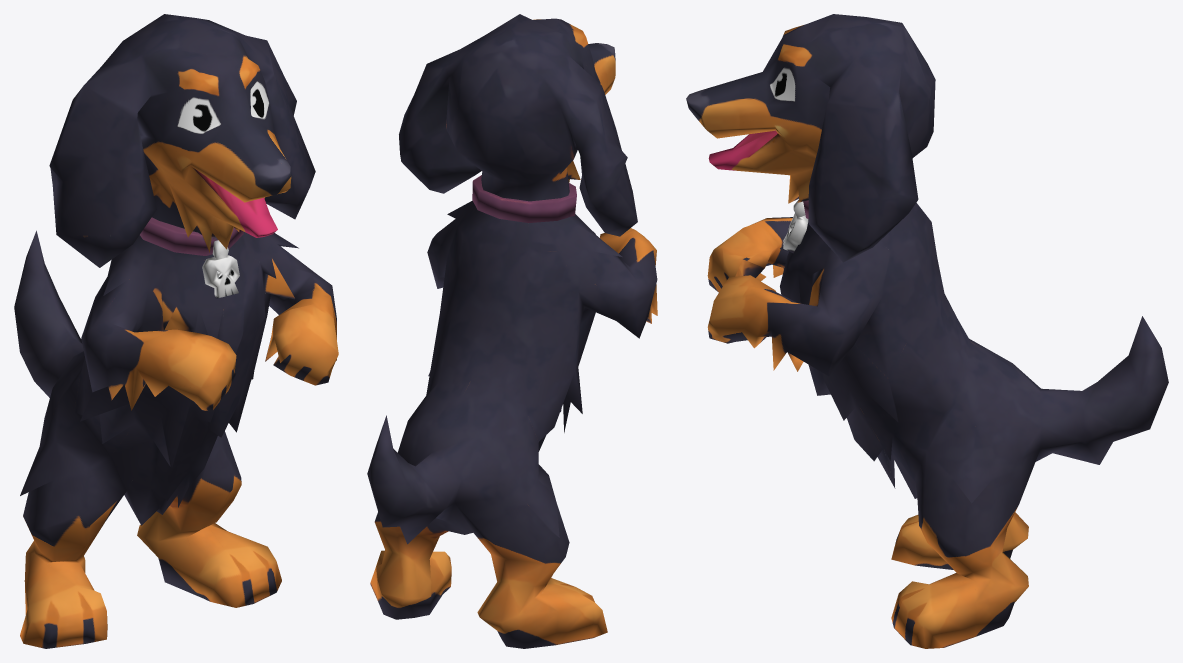
File: bobby-model.glb
The picture shows the model from 3 angles, left to right: view 1: azimuth 30°, elevation 25°; view 2: azimuth 150°, elevation 25°; view 3: azimuth 270°, elevation 25°; orthographic projection. The views are drawn at different scales.
Parts seen in each view (by area): view 1: geometry_0; view 2: geometry_0; view 3: geometry_0.
Part boxes in pixels (box(x1,y1,x2,y2)): geometry_0: box(14, 14, 338, 648); geometry_0: box(367, 14, 657, 648); geometry_0: box(686, 14, 1168, 648).
Bounding box in the file's own units: 0.4204 × 0.9546 × 0.7295.
1 material, 1 textured.
